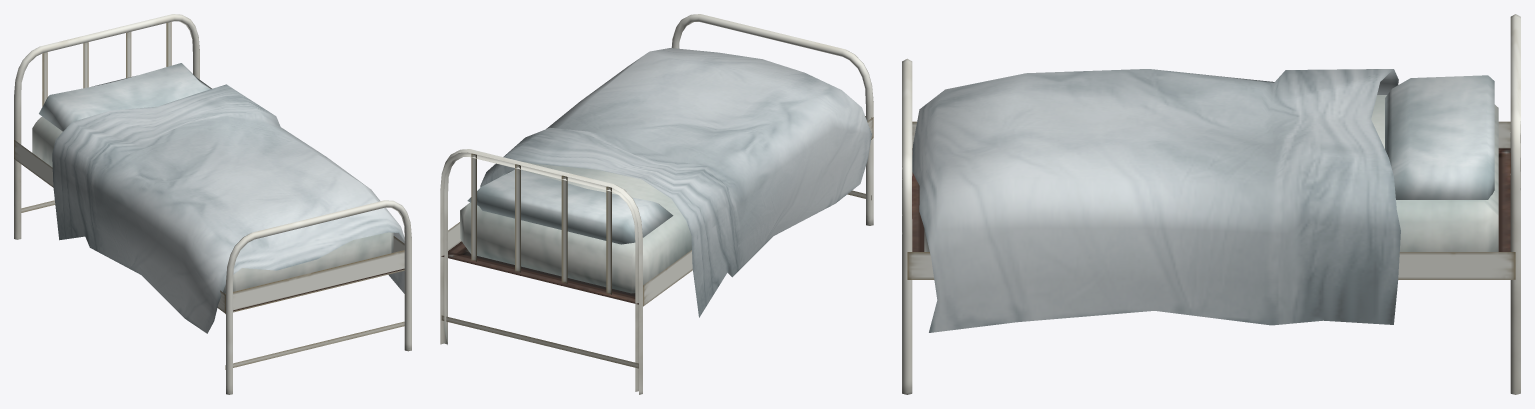
The model's file is hospital_bed.glb.
3 renders of one model, left to right at view 1: azimuth 30°, elevation 25°; view 2: azimuth 150°, elevation 25°; view 3: azimuth 270°, elevation 25°, orthographic. The views are drawn at different scales.
Visible parts, largest first — view 1: hospital/hospital_bed; view 2: hospital/hospital_bed; view 3: hospital/hospital_bed.
Boxes of the visible parts, box(x1,y1,x2,y2) form: hospital/hospital_bed: box(14, 14, 411, 394); hospital/hospital_bed: box(440, 14, 873, 394); hospital/hospital_bed: box(902, 14, 1520, 394).
Size of the model in its own units: 1.15 by 1.05 by 2.19.
1 material, 1 textured.
